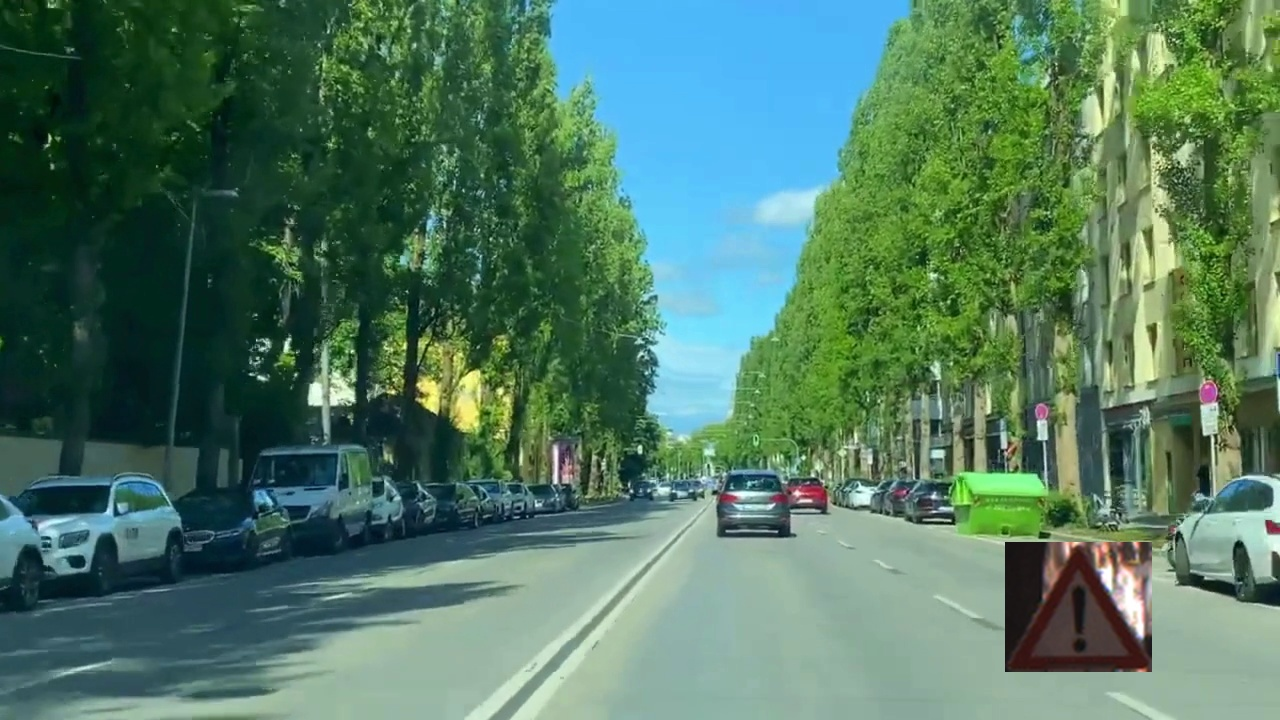Caution: (1005, 542, 1152, 672)
